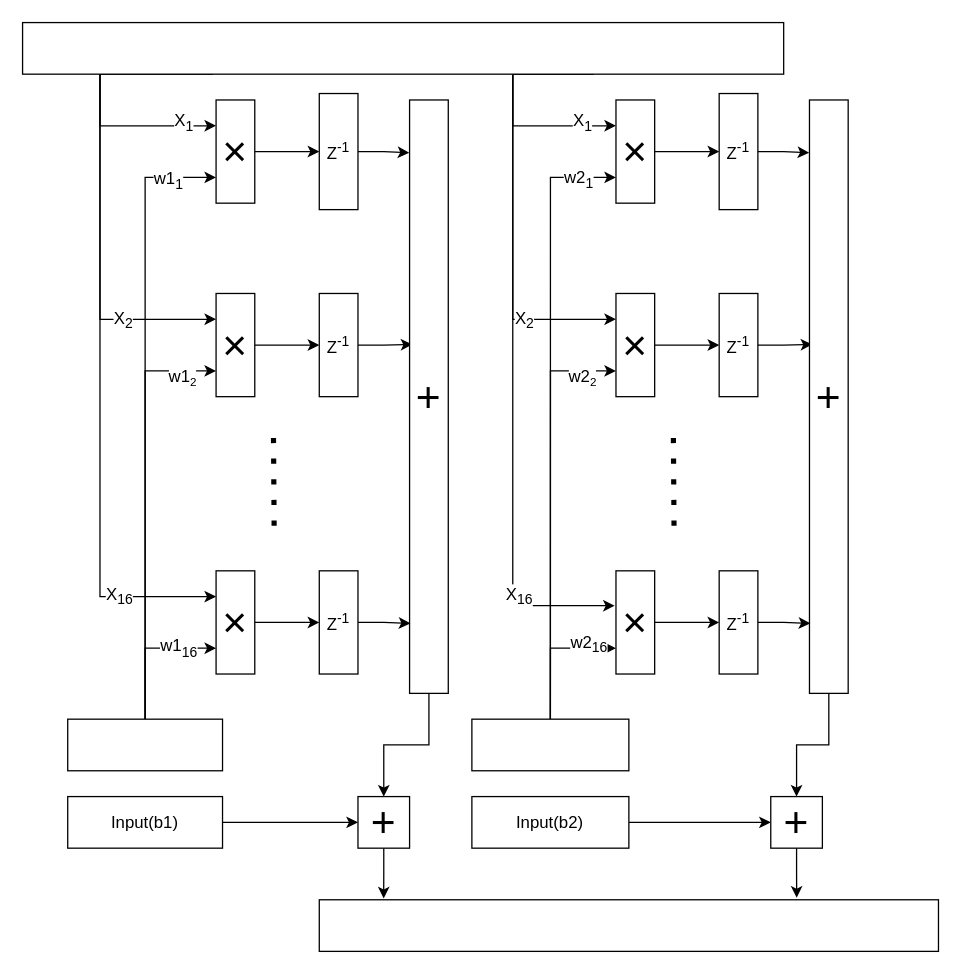
Image size: 961x974. Some labels were removed from this diagram. Each missing label, with the box of its shape:
Input(w1): (66, 718, 223, 771)
Input(w2): (471, 718, 629, 771)
Input(X): (21, 21, 784, 74)
Output(Z): (318, 898, 938, 951)
